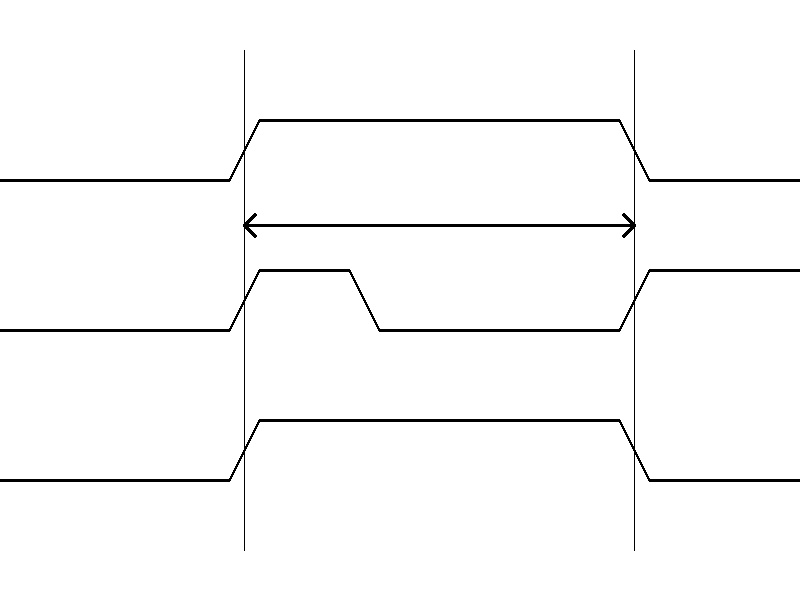double_arrow: (244, 210, 634, 240)
